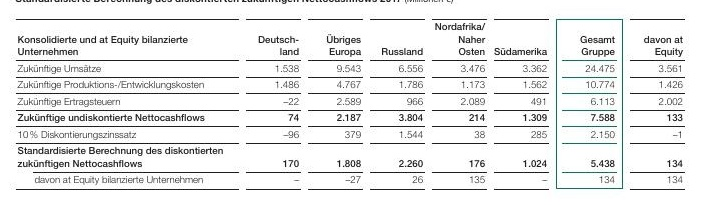table: (0, 0, 702, 205)
